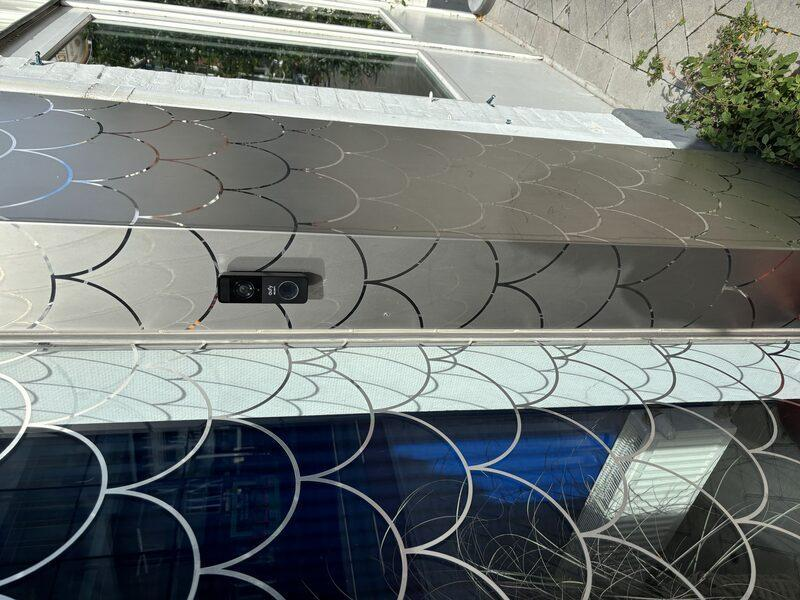doorbell: (286, 214, 336, 313)
